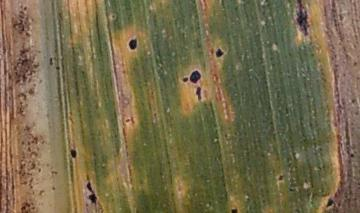tarspot: (294, 1, 310, 35), (190, 70, 201, 84), (87, 192, 98, 205), (85, 181, 95, 194), (195, 85, 202, 102), (214, 46, 223, 59), (130, 34, 137, 50), (325, 198, 335, 208), (275, 173, 284, 182), (47, 56, 55, 66), (109, 12, 117, 21), (70, 149, 77, 158), (181, 75, 188, 84), (124, 117, 132, 124), (230, 207, 239, 213), (349, 151, 355, 159), (56, 65, 62, 71)
